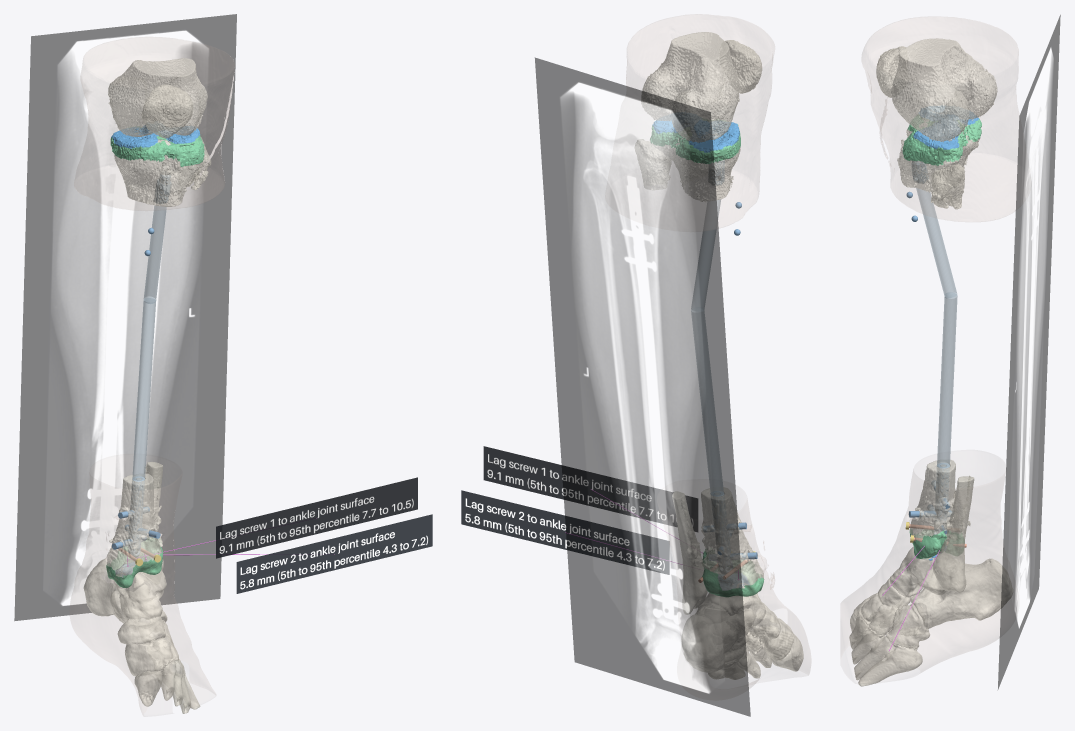
The picture shows the model from 3 angles, left to right: view 1: azimuth 30°, elevation 25°; view 2: azimuth 150°, elevation 25°; view 3: azimuth 270°, elevation 25°; orthographic projection. The views are drawn at different scales.
Parts seen in each view (by area): view 1: radiograph, skin, tibia, implant_8, implant_16, tarsal, femur, nail_modelled, patella, metatarsal, capsule_band_knee, nail (+3 smaller); view 2: radiograph, skin, femur, implant_17, implant_9, tibia, tarsal, nail_modelled, fibula, metatarsal, articular_surface_knee, capsule_band_knee (+3 smaller); view 3: radiograph, skin, tarsal, femur, tibia, fibula, nail_modelled, metatarsal, capsule_band_knee, articular_surface_knee, nail, capsule_band_ankle (+1 smaller).
Boxes of the visible parts, x1,y1,x2,y2 form: radiograph: [14, 14, 236, 620]; skin: [70, 37, 234, 715]; tibia: [106, 135, 202, 588]; implant_8: [216, 477, 417, 558]; implant_16: [236, 514, 432, 593]; tarsal: [83, 558, 178, 676]; femur: [108, 58, 207, 136]; nail_modelled: [132, 205, 166, 480]; patella: [141, 84, 193, 138]; metatarsal: [134, 659, 200, 713]; capsule_band_knee: [110, 127, 204, 166]; nail: [128, 174, 171, 557]; radiograph: [535, 57, 750, 716]; skin: [626, 14, 810, 688]; femur: [641, 32, 739, 142]; implant_17: [461, 490, 669, 574]; implant_9: [483, 446, 697, 531]; tibia: [650, 138, 763, 596]; tarsal: [681, 593, 794, 672]; nail_modelled: [691, 199, 723, 496]; fibula: [634, 139, 707, 614]; metatarsal: [708, 626, 803, 679]; articular_surface_knee: [652, 120, 739, 152]; capsule_band_knee: [650, 124, 740, 163]; radiograph: [998, 15, 1060, 689]; skin: [841, 17, 1019, 672]; tarsal: [853, 546, 1012, 649]; femur: [891, 38, 997, 142]; tibia: [897, 125, 980, 558]; fibula: [931, 164, 974, 592]; nail_modelled: [916, 188, 957, 467]; metatarsal: [849, 611, 922, 686]; capsule_band_knee: [902, 114, 981, 165]; articular_surface_knee: [913, 106, 978, 149]; nail: [912, 161, 949, 534]; capsule_band_ankle: [909, 530, 964, 558].
Size of the model in its own units: 0.3154 by 0.5428 by 0.169.
15 materials, 3 textured.
